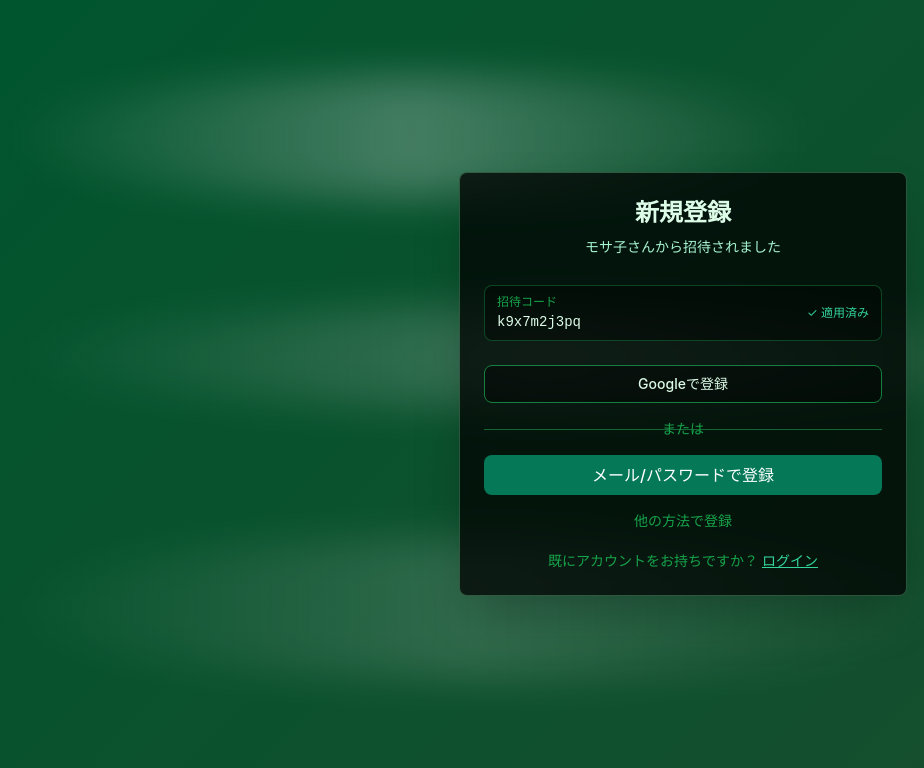
AuthForm - 新フロー (タスク7.2) › 招待モード (prefilledInvitationCode 渡し) › startOAuthRegistration が ApiError を投げたとき invitationErrorMessages の文言を表示する
Step 1. Click the button "Googleで登録" → (683, 384), box [484,365,882,403]
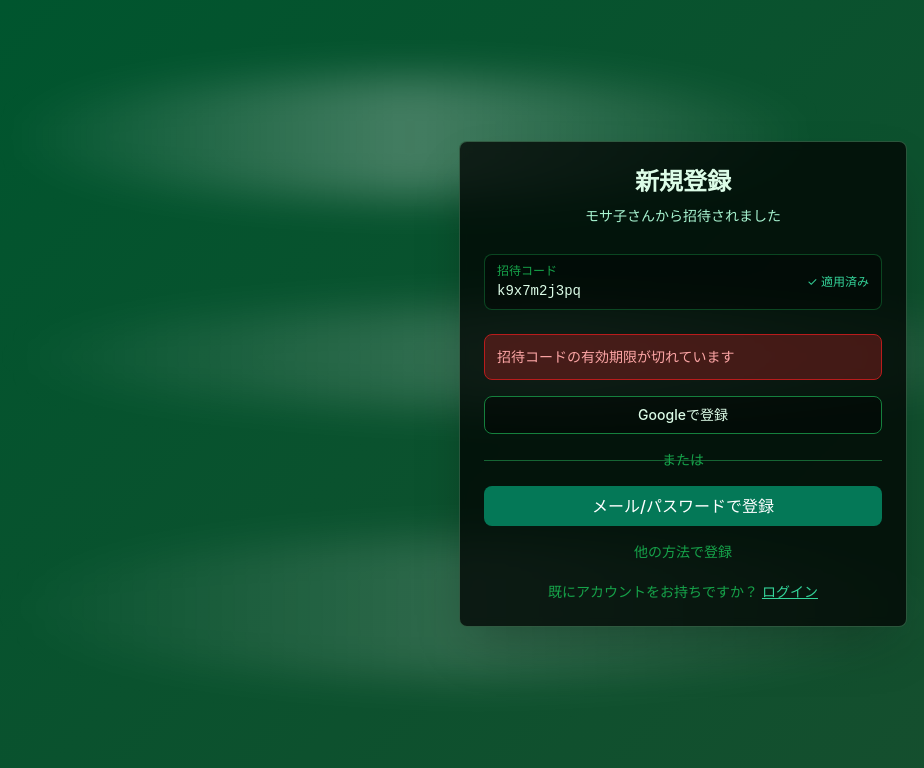
Expected: the text "招待コードの有効期限が切れています" is shown, [484,334,882,380]
